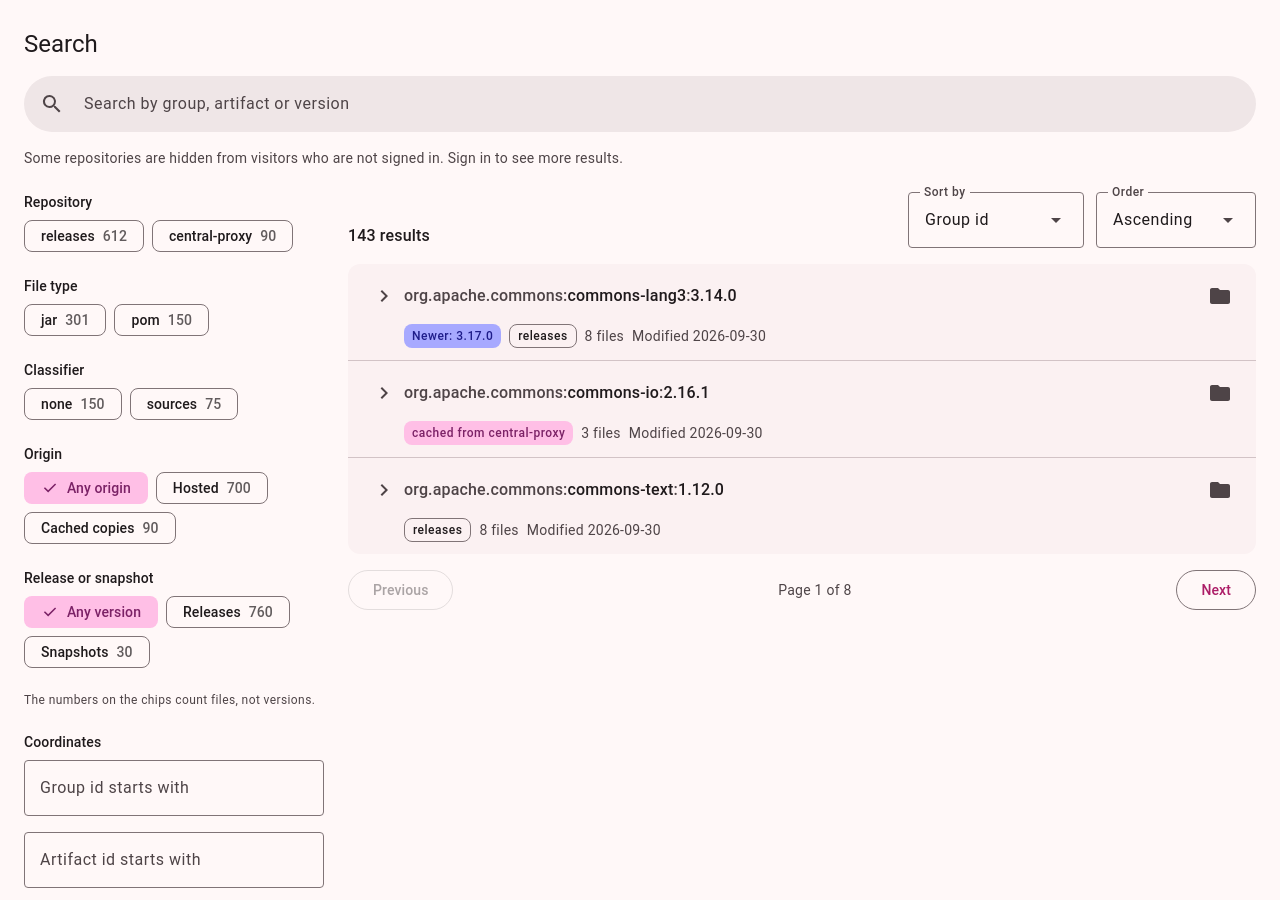
it: SearchView files of a version › lists the files of an open row with a link to each in the browser
Click the button "org.apache.commons:commons-io:2.16.1" at (486, 392), box [364,373,1192,413]
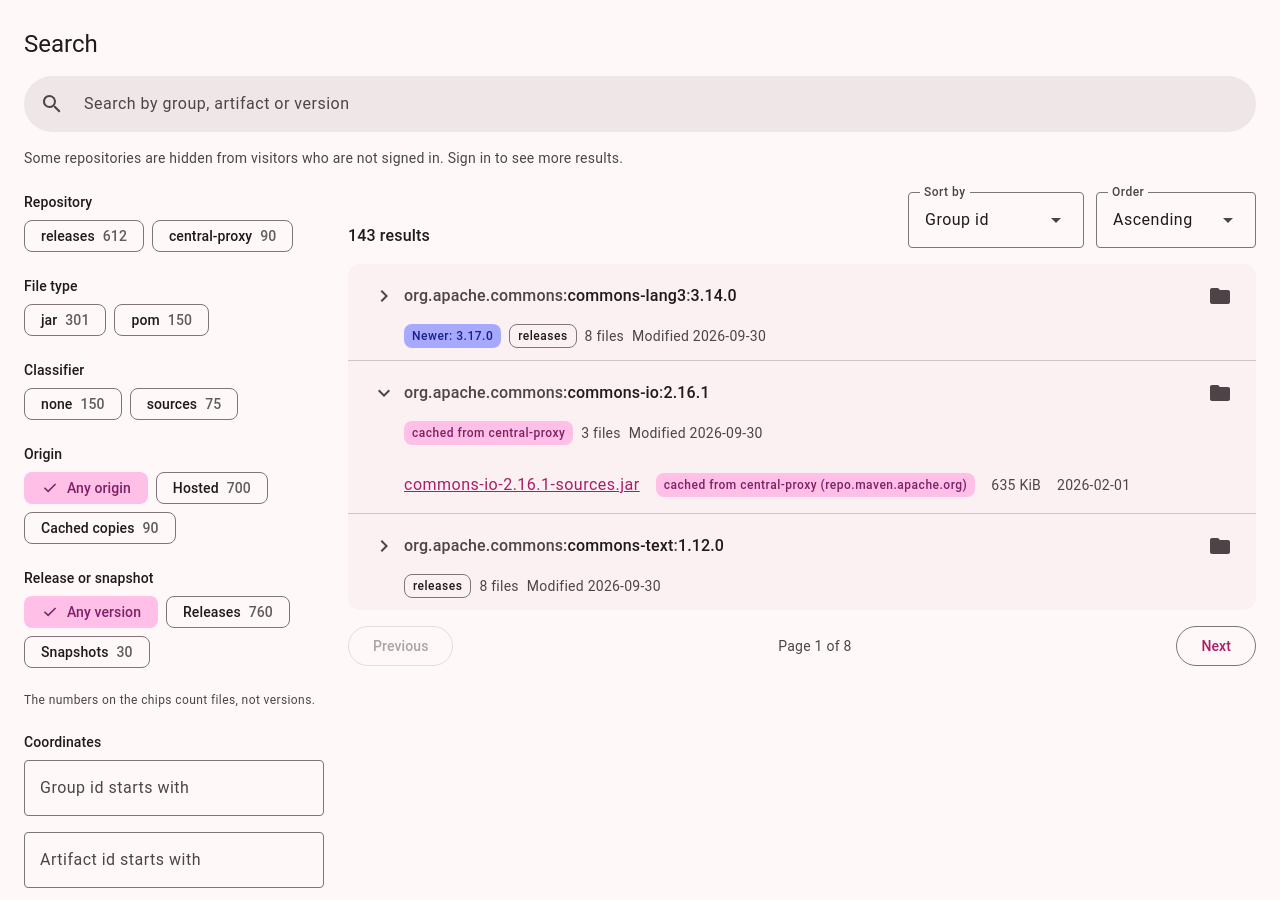
Check: the link with test id "file-link" reads "commons-io-2.16.1-sources.jar", box [404,473,640,497]
